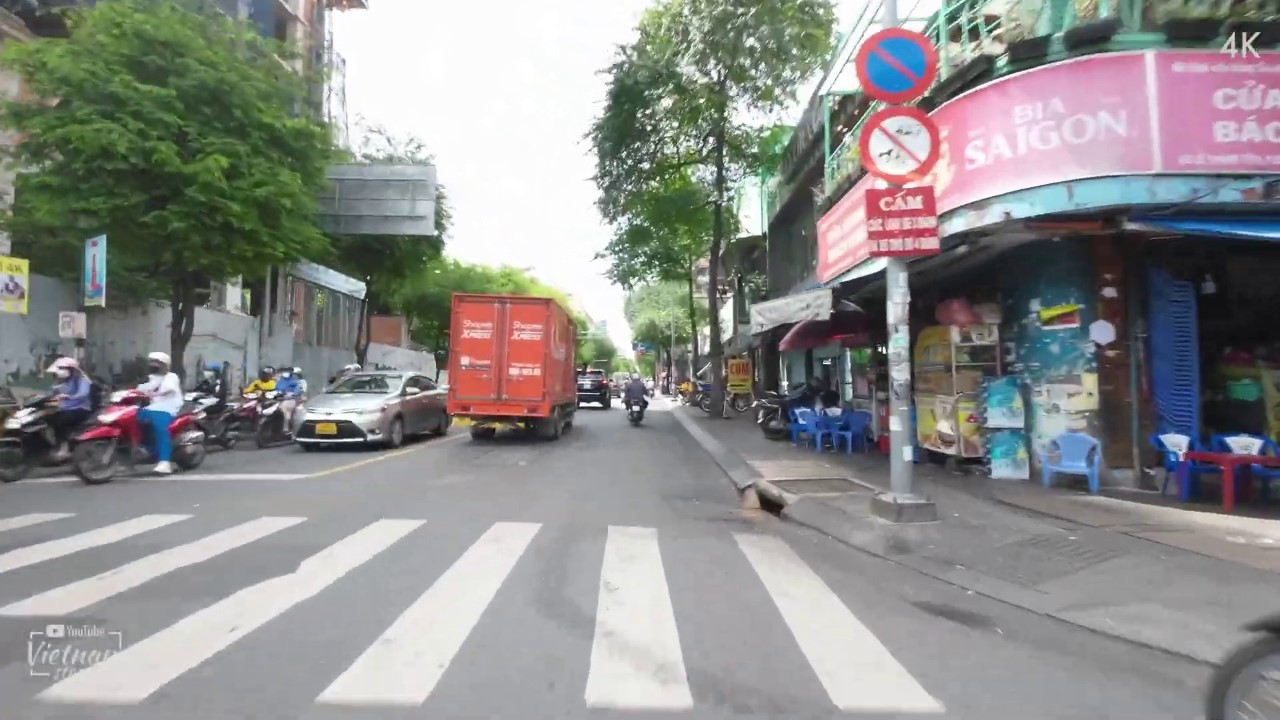cam_do_xe: (856, 25, 939, 104)
